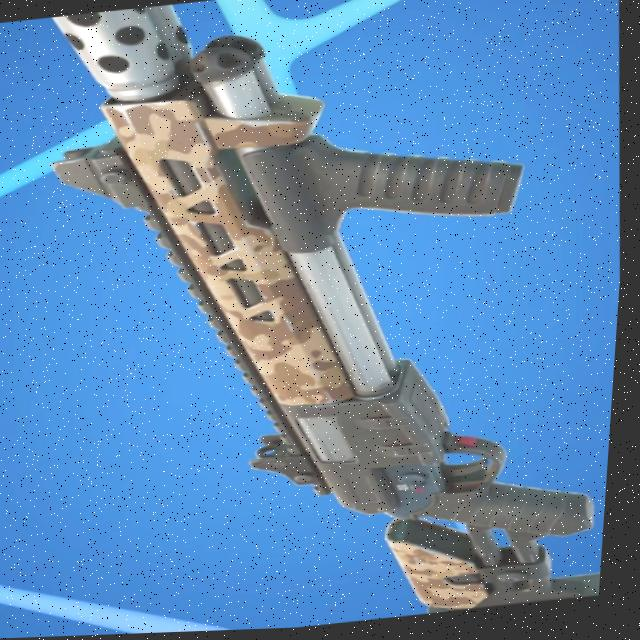firearm: (8, 0, 640, 639)
